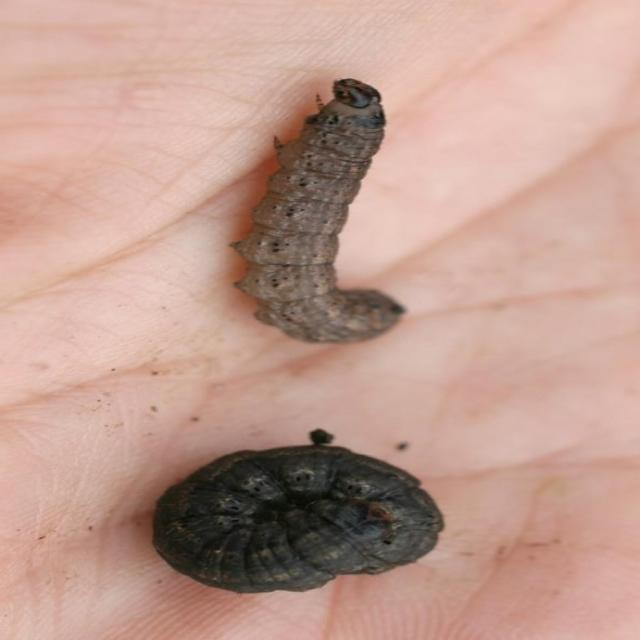black cutworm: (150, 439, 447, 609), (228, 77, 409, 354)
